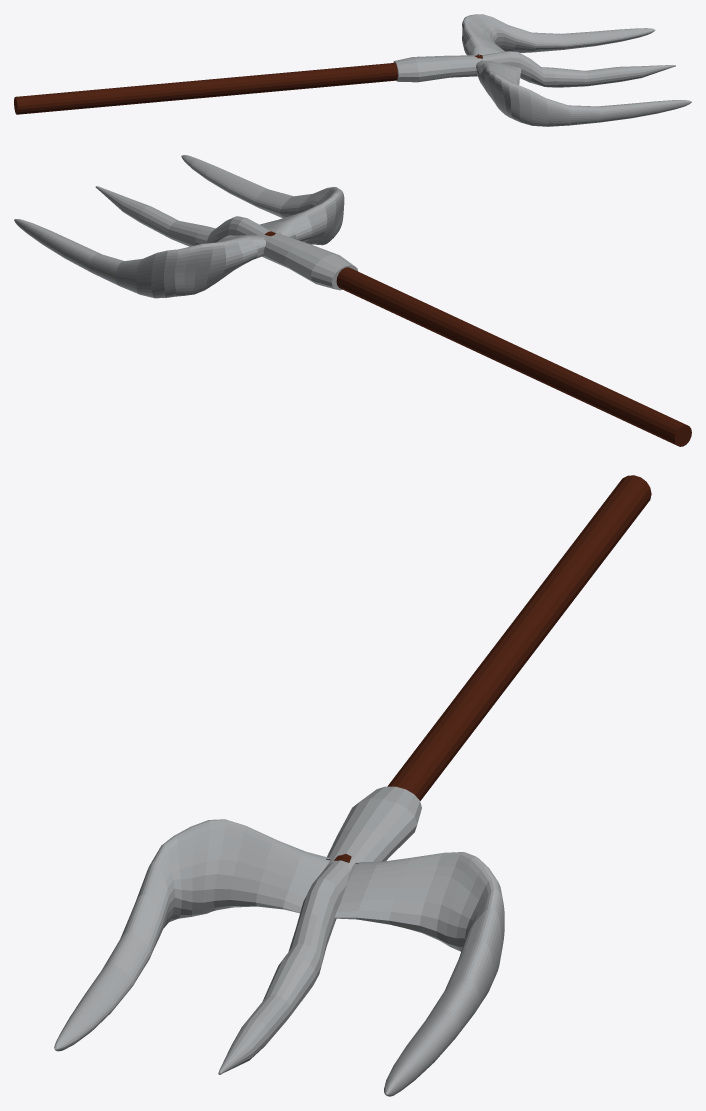
Rendered from farm-hayfork.fbx.
3 renders of one model, top to bottom at view 1: azimuth 30°, elevation 25°; view 2: azimuth 150°, elevation 25°; view 3: azimuth 270°, elevation 25°, orthographic. The views are drawn at different scales.
Parts seen in each view (by area): view 1: Cylinder.371; view 2: Cylinder.371; view 3: Cylinder.371.
Boxes of the visible parts, x1=… form: Cylinder.371: x1=14, y1=14, x2=691, y2=126; Cylinder.371: x1=14, y1=155, x2=691, y2=446; Cylinder.371: x1=54, y1=475, x2=651, y2=1096.
Size of the model in its own units: 290 by 23.64 by 129.
